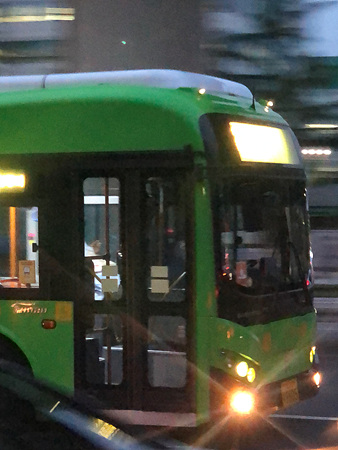entrance: (73, 163, 195, 405)
